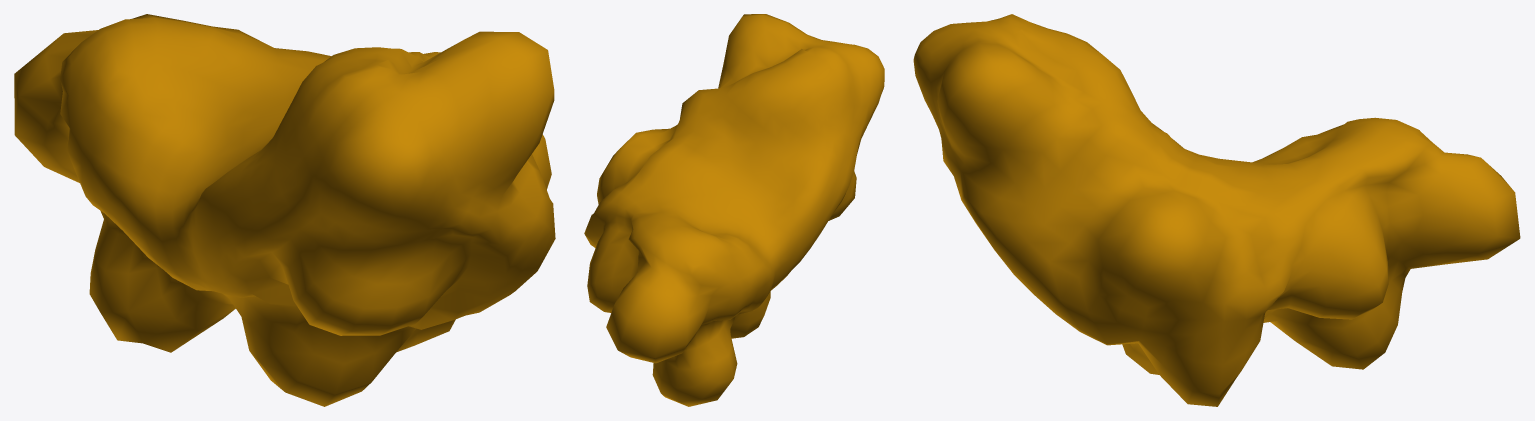
The model's file is Kidney_RenalSinus_Left.FBX.
3 renders of one model, left to right at view 1: azimuth 30°, elevation 25°; view 2: azimuth 150°, elevation 25°; view 3: azimuth 270°, elevation 25°, orthographic. The views are drawn at different scales.
Visible parts, largest first — view 1: Kidney_RenalSinus_Left-Snapshot; view 2: Kidney_RenalSinus_Left-Snapshot; view 3: Kidney_RenalSinus_Left-Snapshot.
Part boxes in pixels (x1=…): Kidney_RenalSinus_Left-Snapshot: x1=14, y1=14, x2=555, y2=406; Kidney_RenalSinus_Left-Snapshot: x1=584, y1=14, x2=884, y2=406; Kidney_RenalSinus_Left-Snapshot: x1=913, y1=14, x2=1520, y2=406.
Size of the model in its own units: 29.92 by 37.03 by 57.32.
